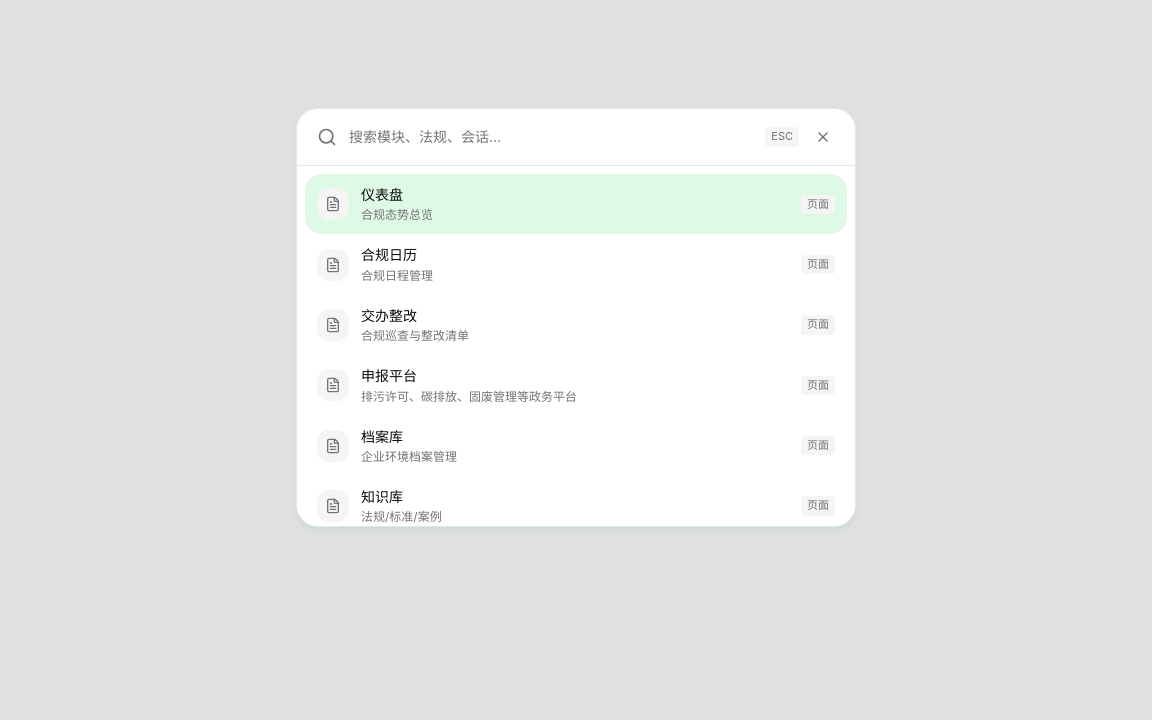
Test: GlobalSearch › filtering › filters results by description substring match
Type "合规态势" into the field with placeholder "搜索模块、法规、会话..." at (551, 137), box [349, 126, 753, 148]
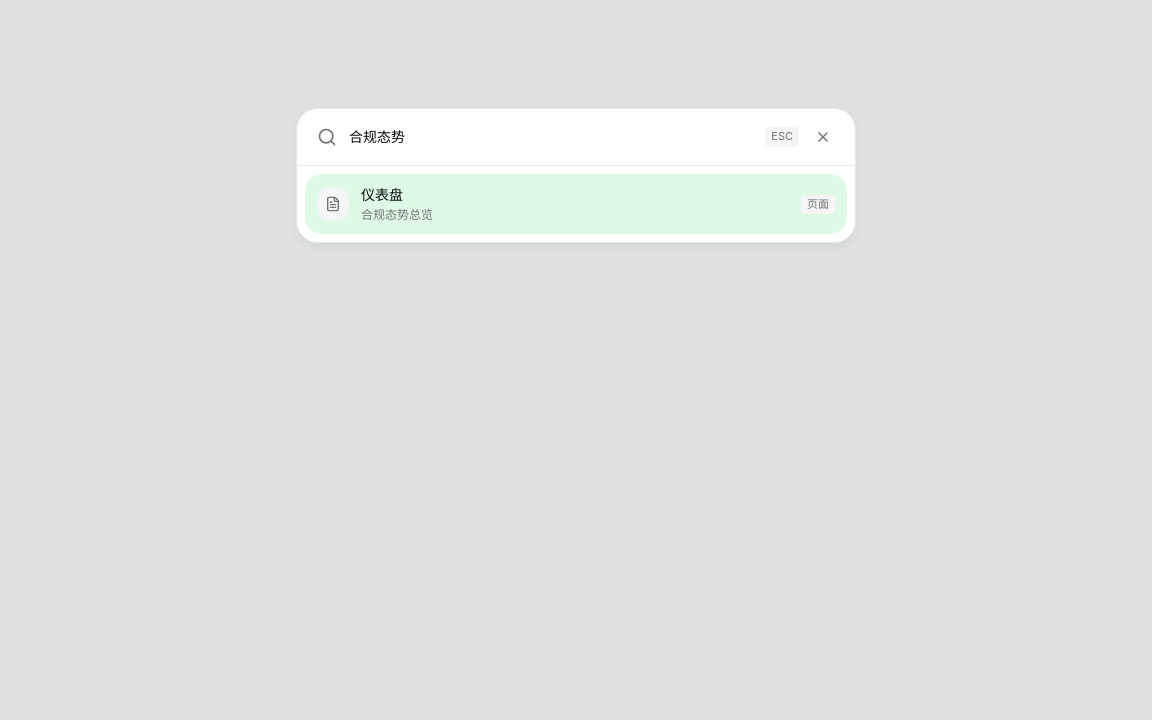
Check: the text "仪表盘" is shown, box [361, 186, 403, 203]
Check: the button "合规日历" is gone
